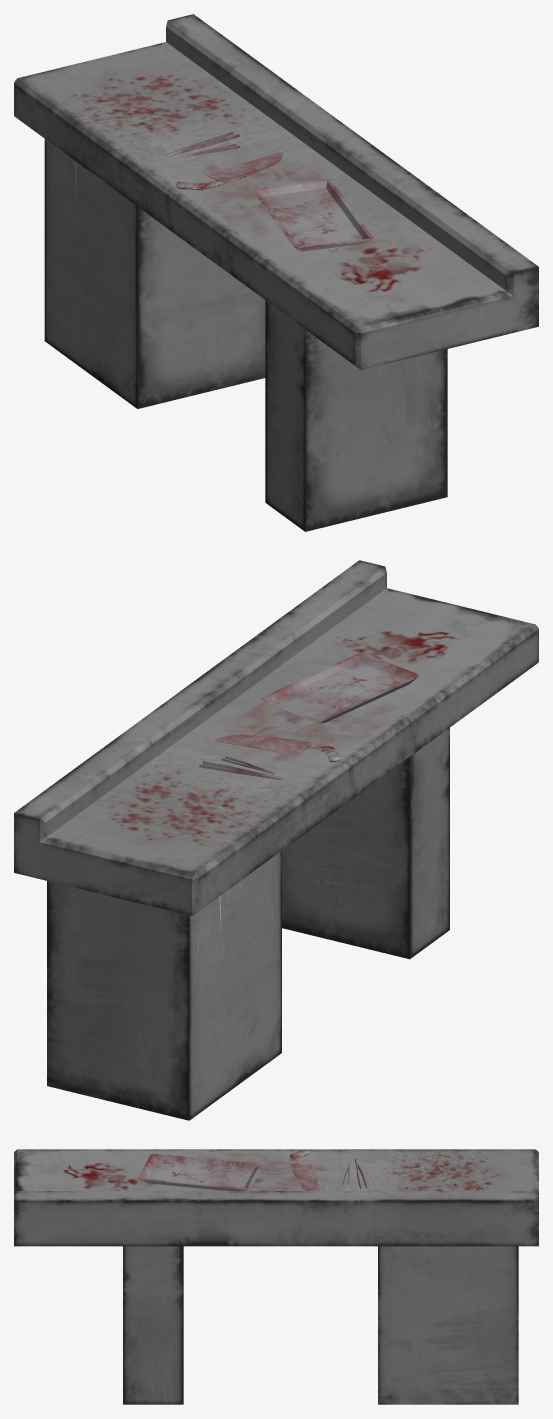
File: L_MORG.fbx
The picture shows the model from 3 angles, top to bottom: view 1: azimuth 30°, elevation 25°; view 2: azimuth 150°, elevation 25°; view 3: azimuth 270°, elevation 25°; orthographic projection. The views are drawn at different scales.
Visible parts, largest first — view 1: Stol_2; view 2: Stol_2; view 3: Stol_2.
Boxes of the visible parts, x1,y1,x2,y2 form: Stol_2: [14, 14, 538, 531]; Stol_2: [14, 560, 538, 1120]; Stol_2: [14, 1149, 538, 1404].
Size of what is drawn, in the model's own units: 71.56 by 236 by 105.
Materials: 2 (2 with a texture image).
